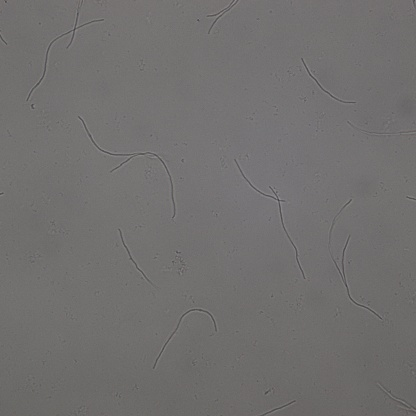Sensitive: (78, 117, 176, 219), (29, 7, 104, 98), (328, 197, 382, 320), (154, 306, 218, 367), (271, 187, 305, 278), (300, 59, 355, 105), (233, 160, 284, 203), (118, 229, 153, 284), (348, 121, 416, 142), (206, 1, 238, 36)
